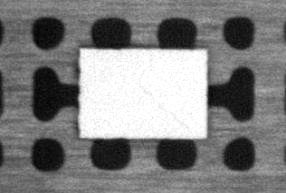DIE_CRACK: (139, 82, 190, 129)
